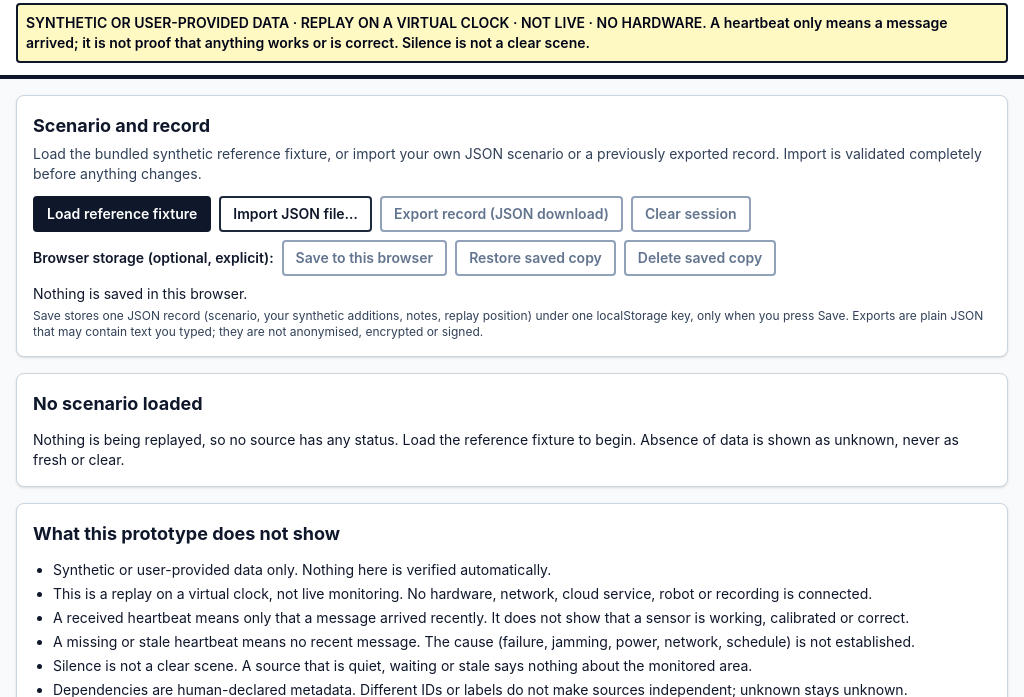
adapter panel drives the real state machine › a late out-of-order callback is ignored and counted in the UI
Click the button with test id "btn-load-ref": (122, 214) [33, 196, 211, 232]
(page scrolled)
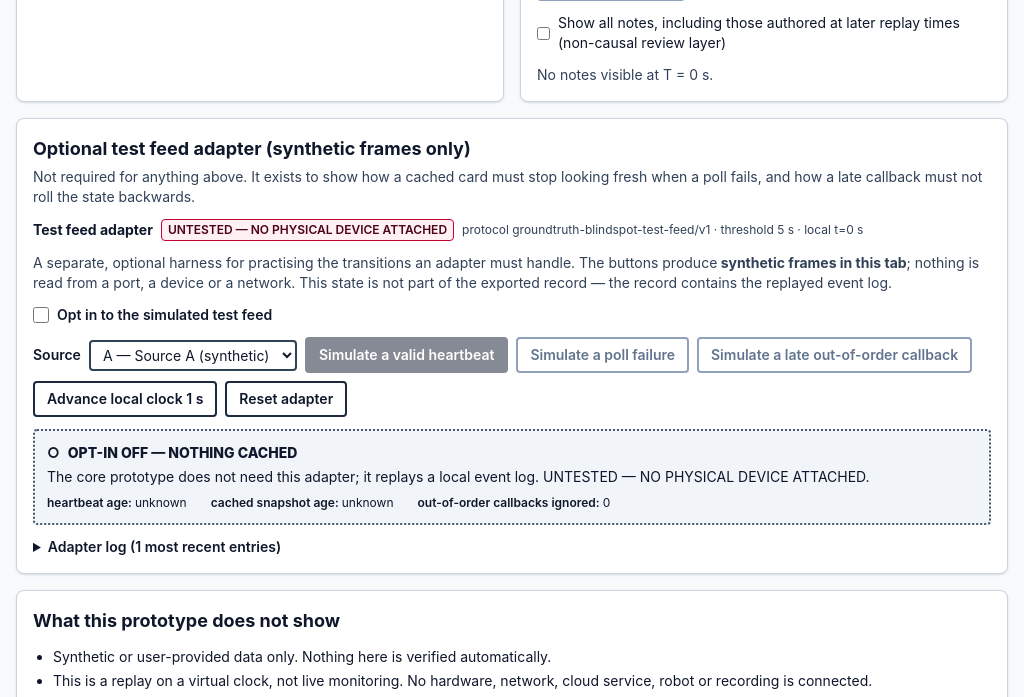
Click the checkbox with test id "adapter-optin": (41, 315) [33, 307, 49, 323]
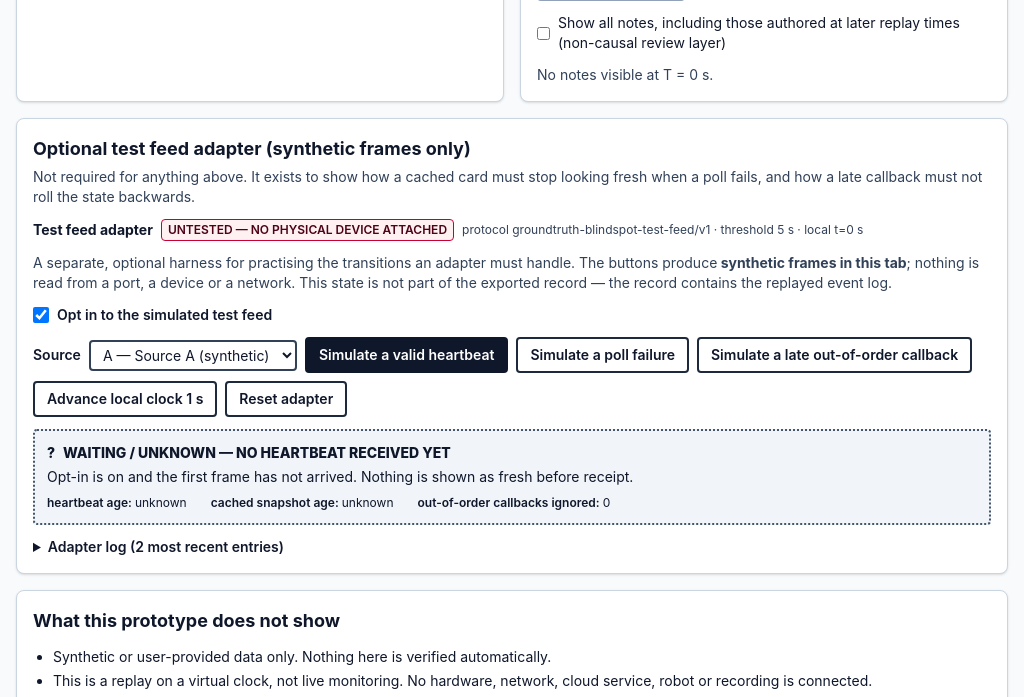
Click the button with test id "adapter-send": (407, 355) [305, 337, 508, 373]
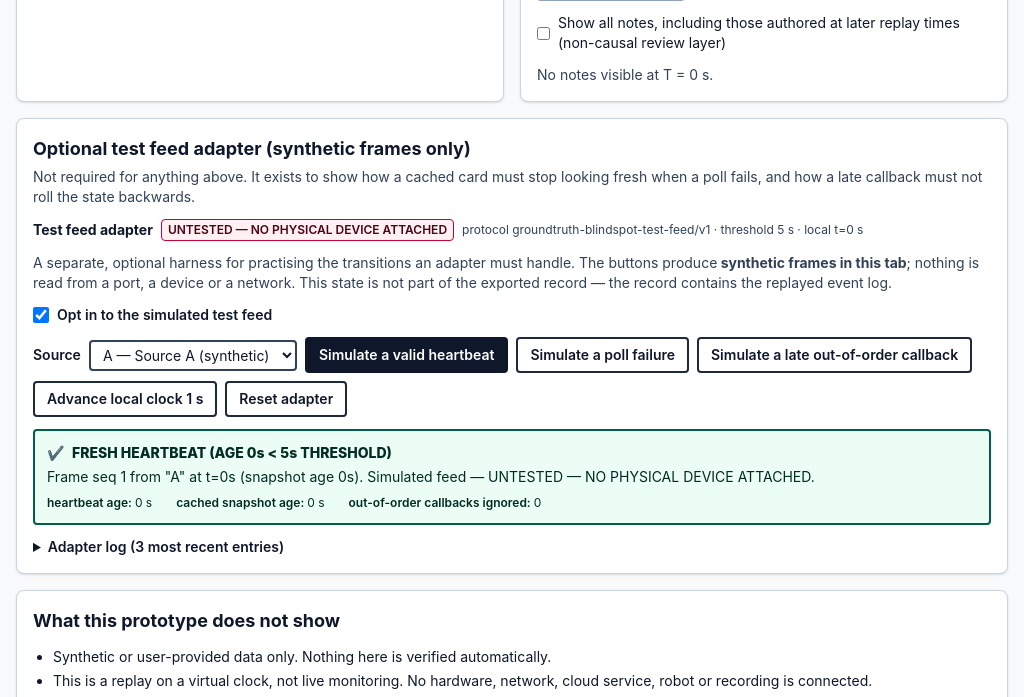
Click the button with test id "adapter-send": (407, 355) [305, 337, 508, 373]
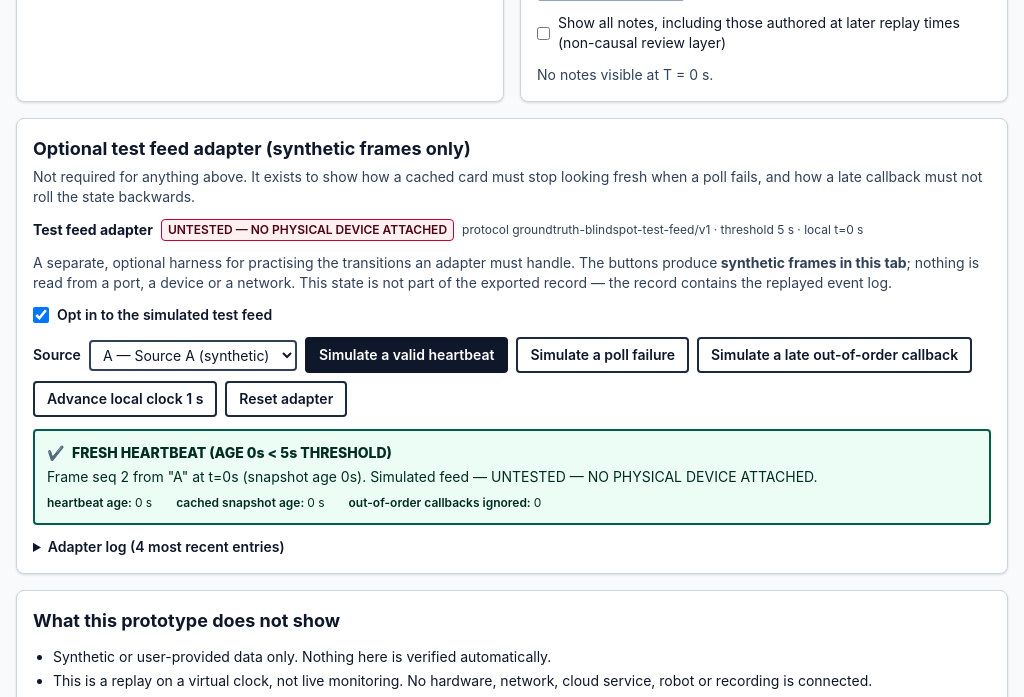
Click the button with test id "adapter-late": (835, 355) [697, 337, 972, 373]
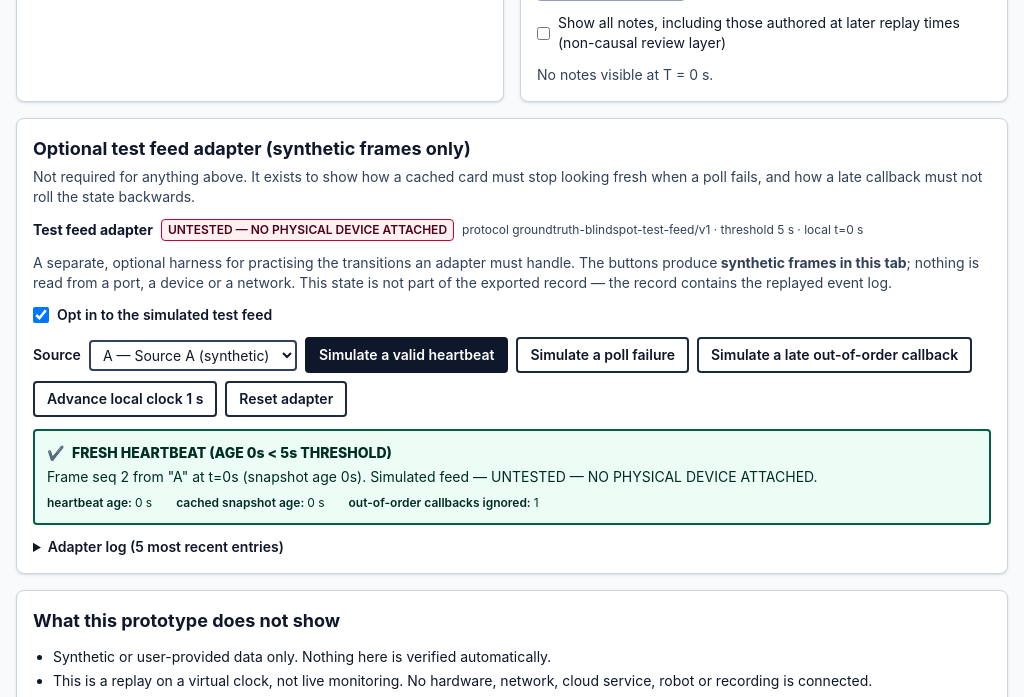
Check: the element with test id "adapter-card" has attribute data-status="FRESH_HEARTBEAT_RECEIVED", box [33, 429, 991, 525]
